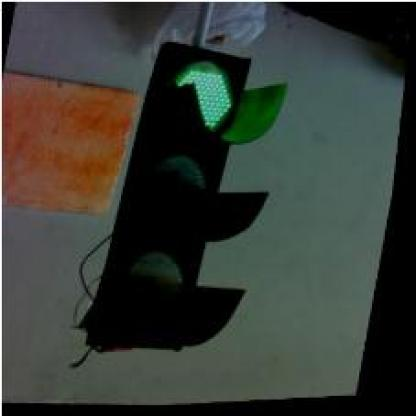green: (91, 40, 298, 360)
